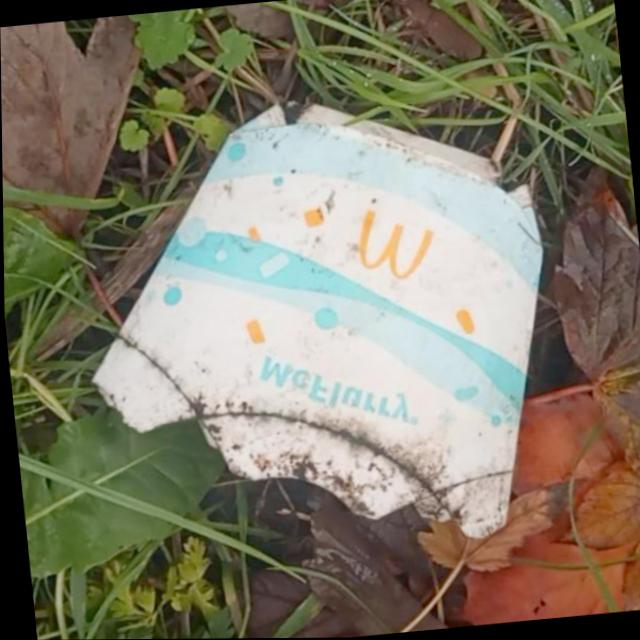Paper: (61, 76, 575, 576)
